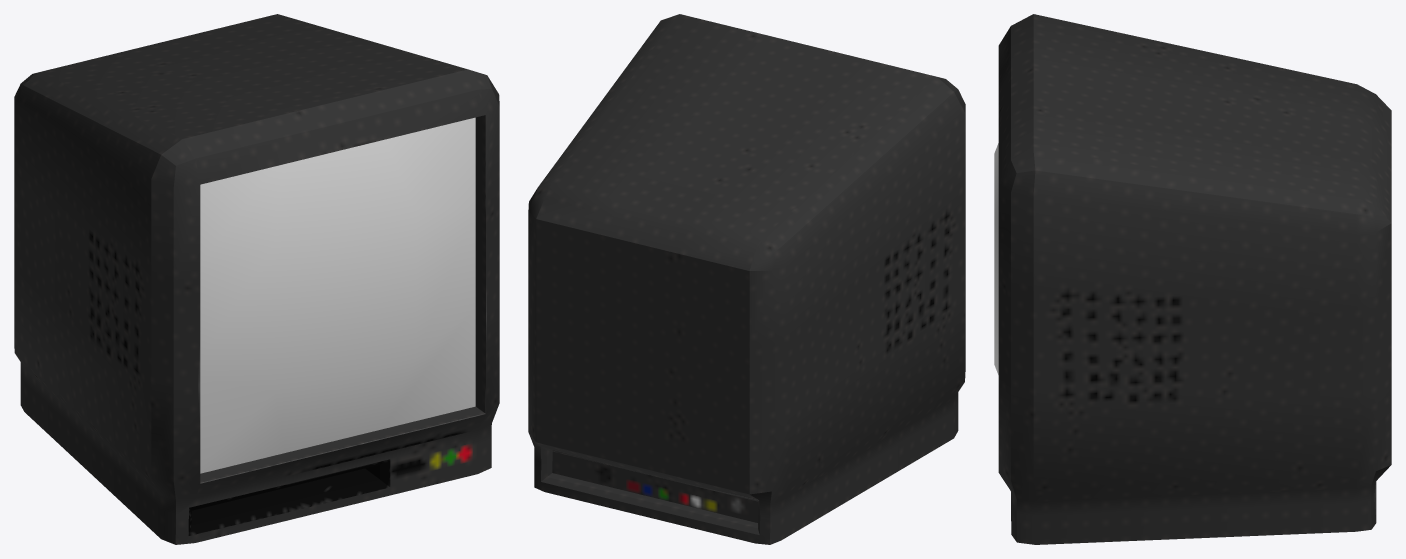
The picture shows the model from 3 angles, left to right: view 1: azimuth 30°, elevation 25°; view 2: azimuth 150°, elevation 25°; view 3: azimuth 270°, elevation 25°; orthographic projection. The views are drawn at different scales.
Parts seen in each view (by area): view 1: 2x2x2 TV, 2x2x2 TV screen; view 2: 2x2x2 TV; view 3: 2x2x2 TV, 2x2x2 TV screen.
Part boxes in pixels (bbox=[...]): 2x2x2 TV: bbox=[14, 14, 499, 544]; 2x2x2 TV screen: bbox=[200, 117, 475, 473]; 2x2x2 TV: bbox=[528, 14, 965, 544]; 2x2x2 TV: bbox=[998, 14, 1391, 544]; 2x2x2 TV screen: bbox=[994, 143, 998, 374].
Bounding box in the file's own units: 179 × 195 × 182.
1 material, 1 textured.
